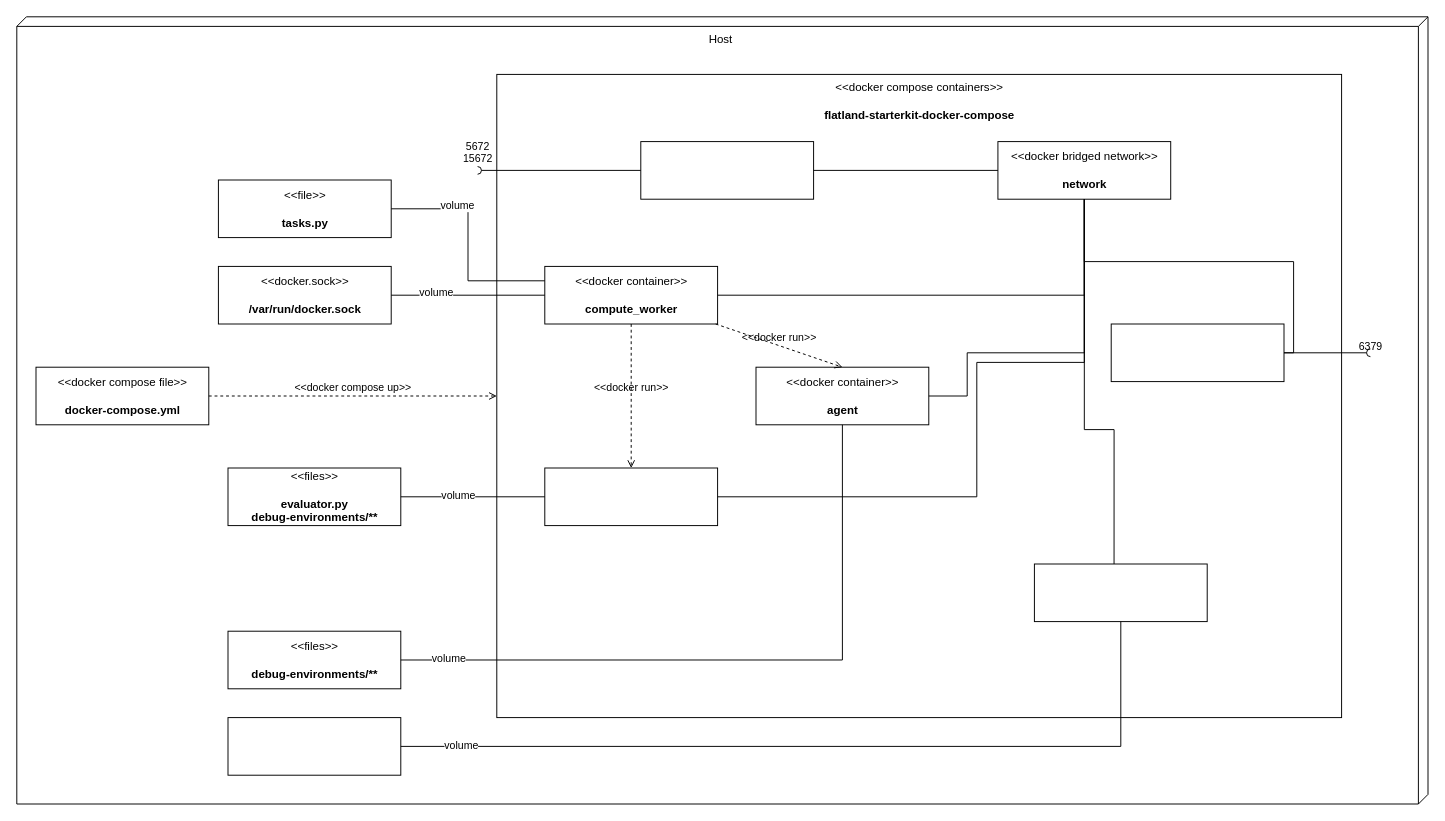
Some shapes in this 1445 by 821 pixel diagram are drawn without their labels. Here are the shapes that lost their labels. From the top down, the centre of each, then its label:
point (727, 170): <<docker container>> rabbtit
point (1197, 352): <<docker container>> redis
point (631, 496): <<docker container>> evaluator
point (1120, 592): <<docker container>> submitter
point (314, 746): <<files>> submitter.py
